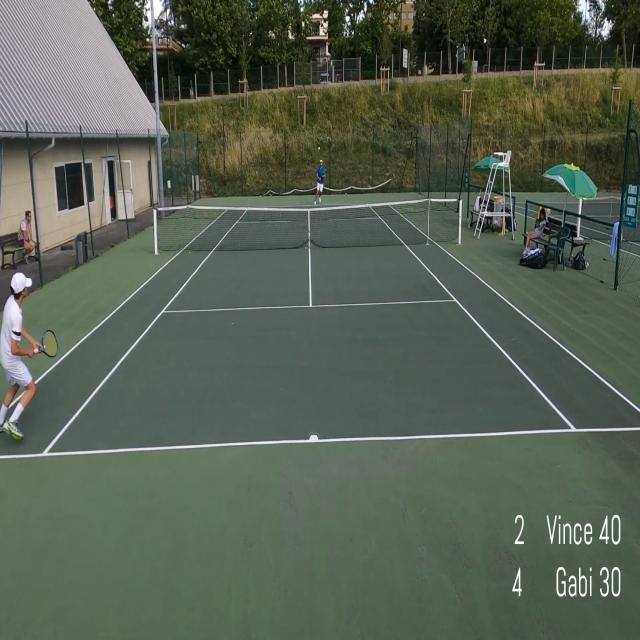ball: (318, 146, 320, 150), (345, 192, 347, 195)
